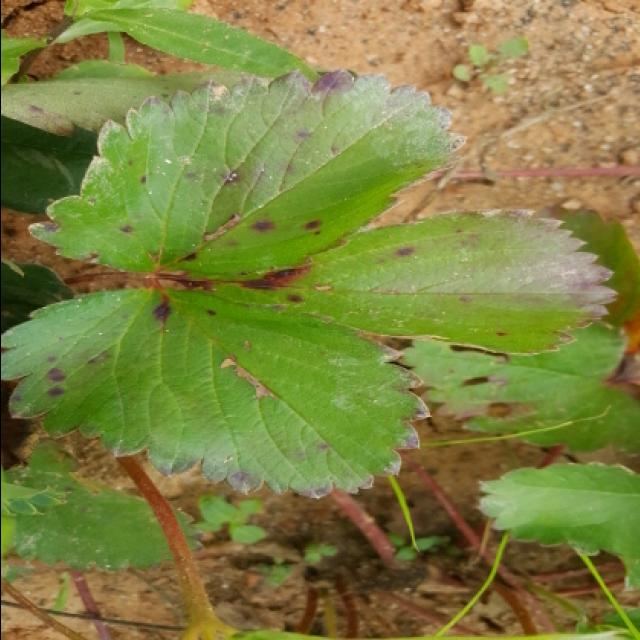Leaf Spot: (26, 67, 469, 280), (2, 286, 432, 500), (161, 208, 619, 356), (2, 73, 237, 138)
